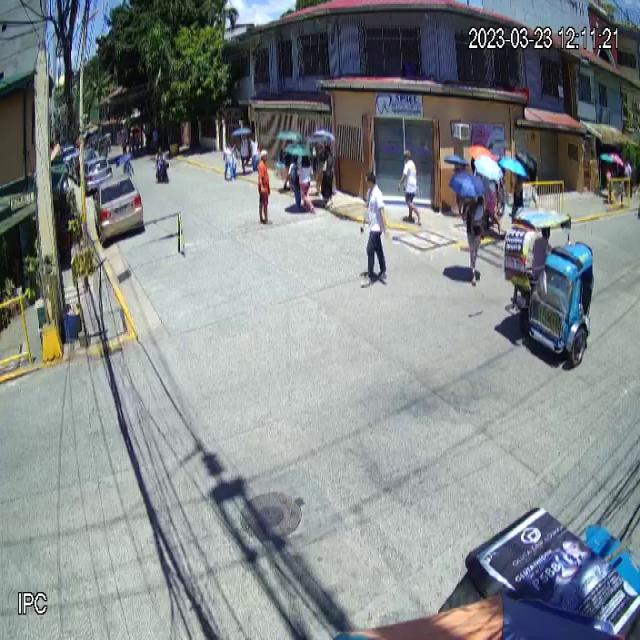Car: (94, 172, 144, 244)
Tricycle: (504, 205, 595, 370)
